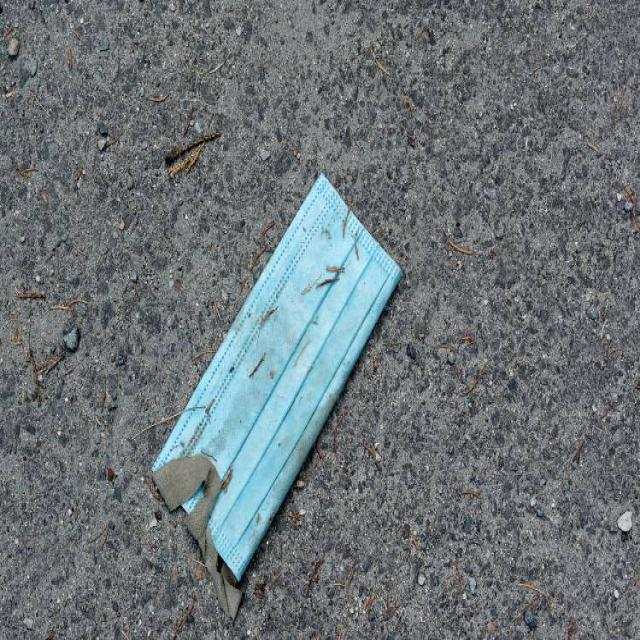non-organic waste: (153, 180, 406, 580)
